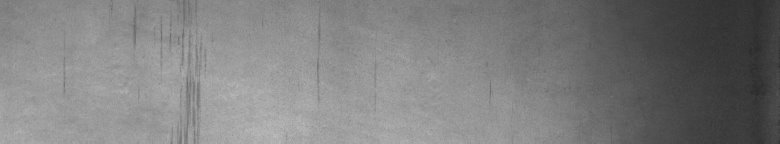ka: (133, 17, 206, 127)
